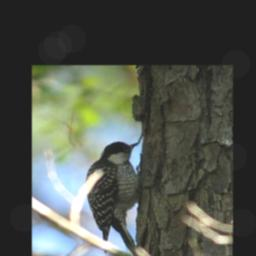Woodpecker: (84, 139, 142, 256)
